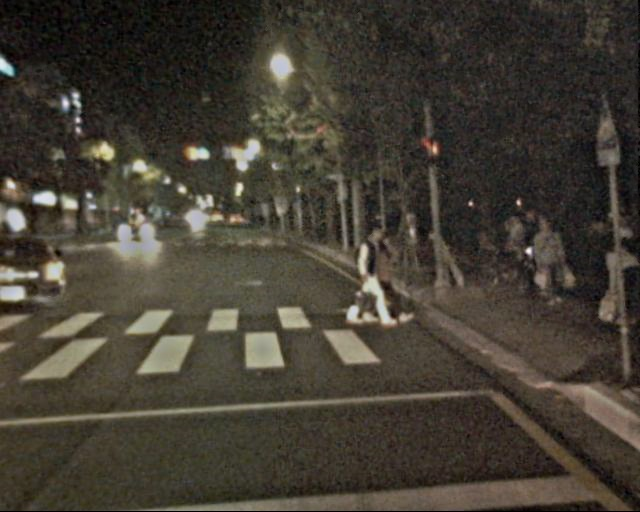person: (506, 209, 561, 295), (350, 224, 393, 330), (596, 231, 637, 330), (527, 217, 565, 310), (592, 211, 629, 302)
